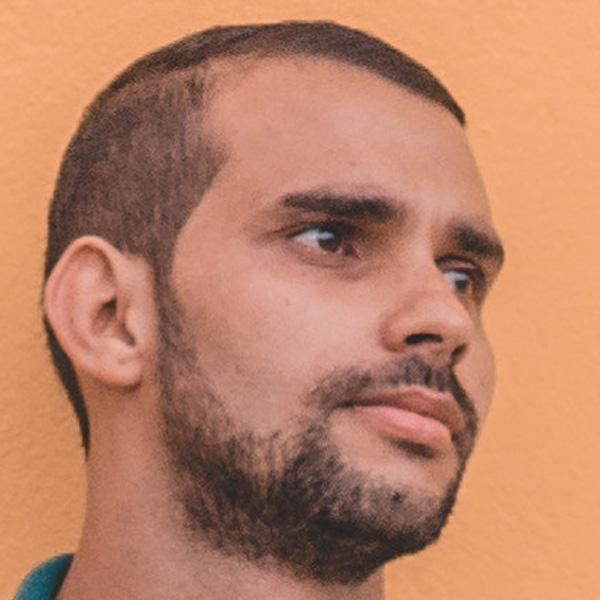Eyes: (270, 209, 368, 272), (428, 248, 489, 312)
